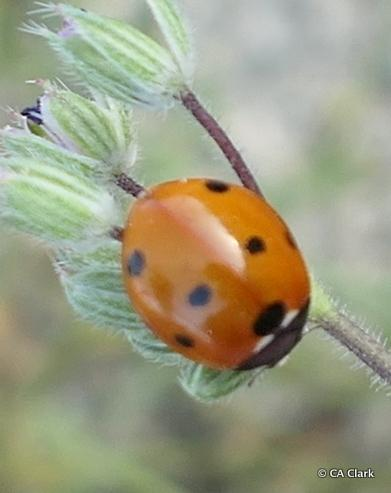ladybug: (121, 176, 325, 391)
